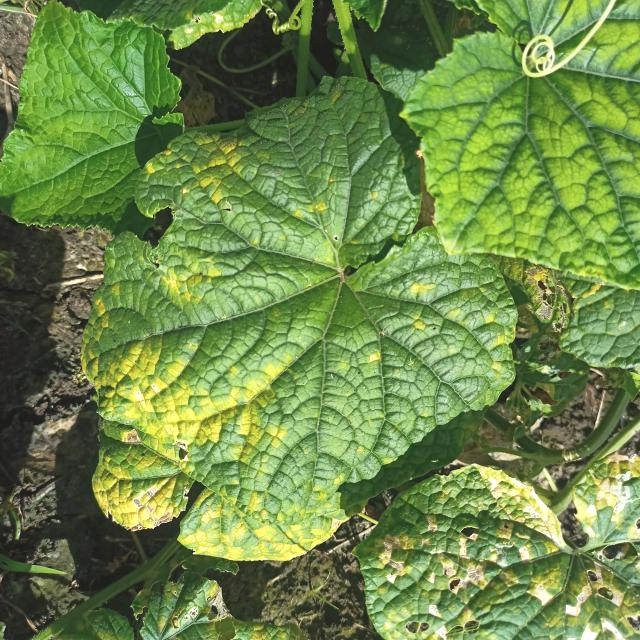disease_cucumber: (81, 323, 332, 561), (149, 124, 252, 301)
